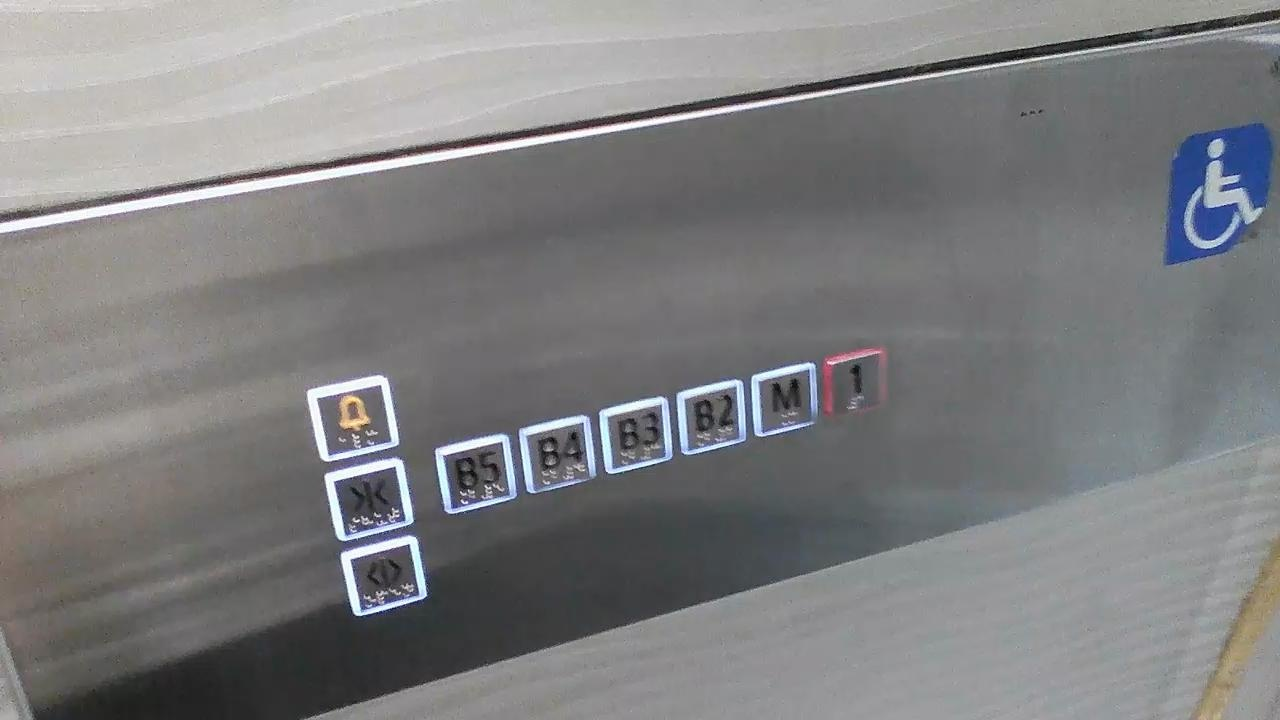1: (816, 342, 894, 426)
B2: (672, 376, 752, 459)
B3: (596, 392, 678, 480)
B4: (514, 408, 600, 499)
B5: (430, 430, 523, 518)
M: (747, 355, 822, 441)
alarm: (296, 370, 409, 465)
close: (320, 457, 416, 550)
open: (335, 530, 430, 623)
